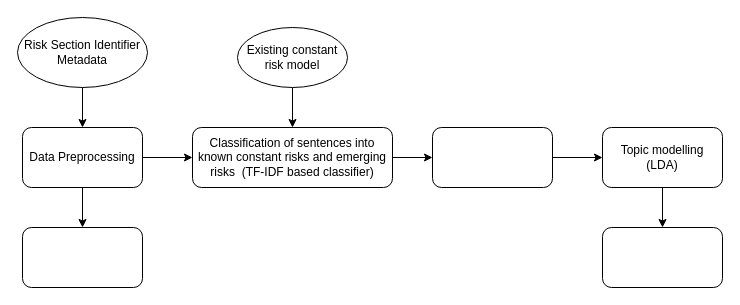
This 740x305 diagram has some shape labels left out. Here are the shapes that lost their labels. From the top down, the centre of each, then its label:
At [492,157]: "Clustering of emerging risk sentences".
At [82,257]: "Dataset Analysis (TF and TF-IDF)".
At [662,257]: "Result evaluation and analysis".
